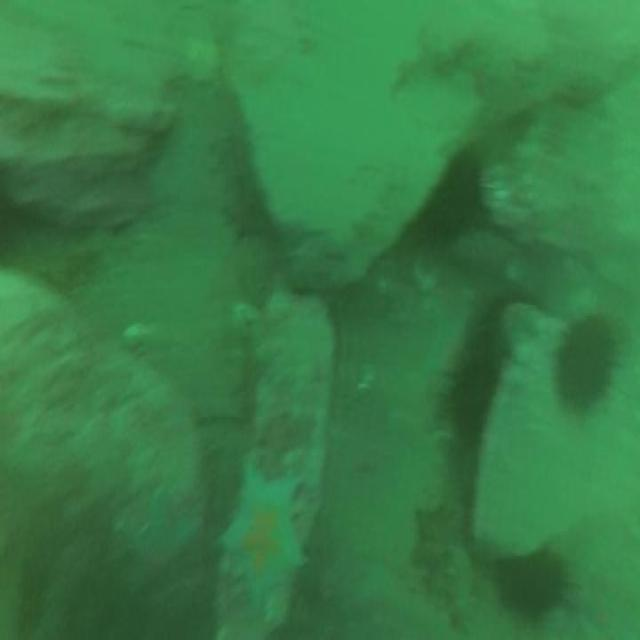echinus: (558, 315, 614, 406), (500, 552, 566, 621), (447, 358, 489, 442), (437, 161, 483, 231)
holothurian: (446, 543, 475, 618)
starfish: (219, 465, 305, 605), (412, 502, 458, 578)
